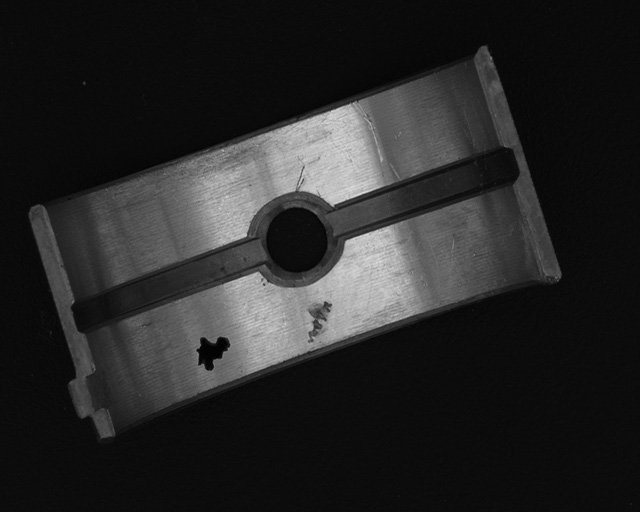blot: (196, 336, 230, 371)
bruise: (306, 300, 332, 343)
gap: (74, 238, 262, 331), (331, 151, 514, 234)
hole: (254, 196, 337, 283)
nick: (352, 100, 386, 163), (293, 164, 306, 194)
scratch: (104, 134, 269, 198)
